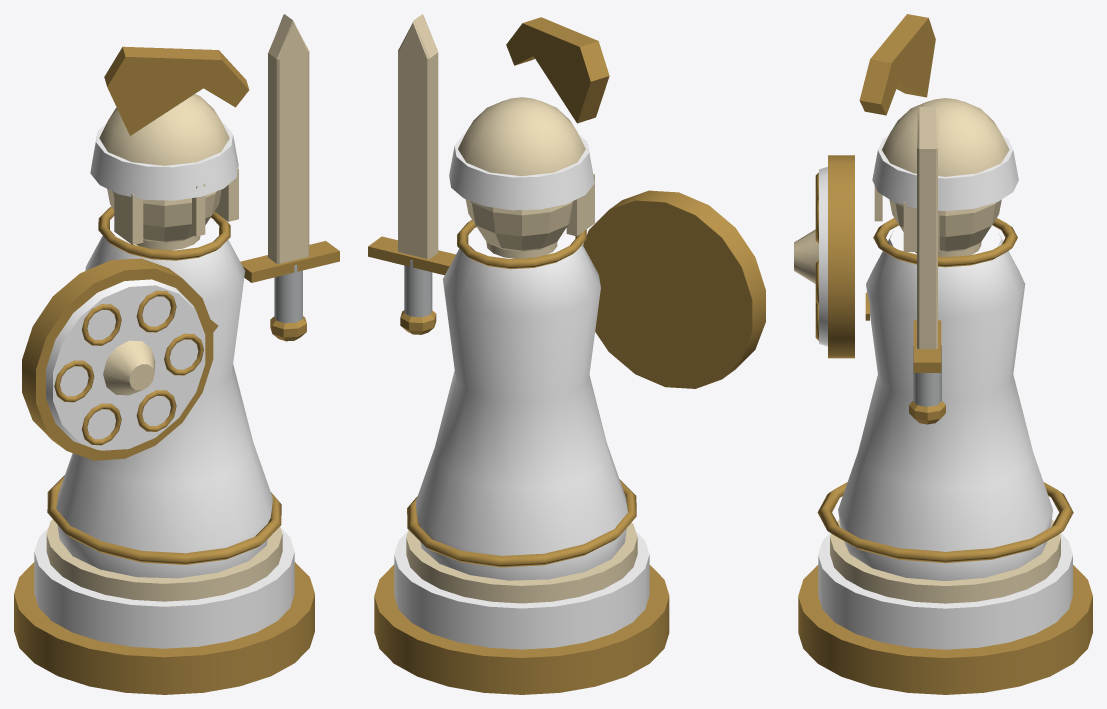
File: hypaspist.glb
3 views of the same model, side by side, from view 1: azimuth 30°, elevation 25°; view 2: azimuth 150°, elevation 25°; view 3: azimuth 270°, elevation 25° (orthographic). The views are drawn at different scales.
Parts seen in each view (by area): view 1: Turned enamel robe, Trim plinth, Round enamel shield, Enamel base, Swordsman pointed ivory blade, Round shield rim, Swept helmet crest, Ivory base bead, Swordsman low steel helmet, Swordsman owner brow band, Embossed shield roundel (×6), Trim hem (+9 smaller); view 2: Turned enamel robe, Round shield rim, Trim plinth, Enamel base, Swordsman pointed ivory blade, Swordsman low steel helmet, Ivory base bead, Swept helmet crest, Swordsman owner brow band, Faceted ivory face, Trim hem, Trim collar bead (+4 smaller); view 3: Turned enamel robe, Trim plinth, Enamel base, Ivory base bead, Swordsman low steel helmet, Round shield rim, Swordsman pointed ivory blade, Swept helmet crest, Swordsman owner brow band, Trim hem, Faceted ivory face, Trim collar bead (+6 smaller).
Part boxes in pixels (x1,y1,x2,y2): Turned enamel robe: [56, 235, 272, 578]; Trim plinth: [14, 562, 314, 694]; Round enamel shield: [46, 279, 205, 450]; Enamel base: [34, 528, 294, 648]; Swordsman pointed ivory blade: [268, 14, 309, 263]; Round shield rim: [22, 258, 213, 460]; Swept helmet crest: [104, 46, 249, 135]; Ivory base bead: [46, 519, 282, 601]; Swordsman low steel helmet: [99, 94, 229, 165]; Swordsman owner brow band: [90, 123, 238, 200]; Embossed shield roundel (×6): [54, 290, 203, 445]; Trim hem: [47, 475, 281, 564]; Turned enamel robe: [415, 244, 627, 580]; Round shield rim: [583, 190, 765, 388]; Trim plinth: [374, 564, 669, 694]; Enamel base: [394, 531, 649, 649]; Swordsman pointed ivory blade: [398, 14, 438, 259]; Swordsman low steel helmet: [458, 97, 585, 176]; Ivory base bead: [406, 522, 637, 603]; Swept helmet crest: [506, 17, 609, 123]; Swordsman owner brow band: [449, 134, 594, 210]; Faceted ivory face: [465, 199, 573, 251]; Trim hem: [407, 479, 636, 567]; Trim collar bead: [457, 219, 586, 269]; Turned enamel robe: [838, 231, 1052, 580]; Trim plinth: [798, 565, 1092, 694]; Enamel base: [818, 533, 1072, 649]; Ivory base bead: [830, 519, 1060, 603]; Swordsman low steel helmet: [882, 98, 1009, 176]; Round shield rim: [828, 155, 854, 358]; Swordsman pointed ivory blade: [917, 107, 937, 349]; Swept helmet crest: [859, 14, 935, 115]; Swordsman owner brow band: [872, 135, 1018, 211]; Trim hem: [817, 482, 1073, 563]; Faceted ivory face: [889, 199, 1001, 252]; Trim collar bead: [873, 218, 1017, 267].
Bounding box in the file's own units: 0.6257 × 1.04 × 0.4756.
